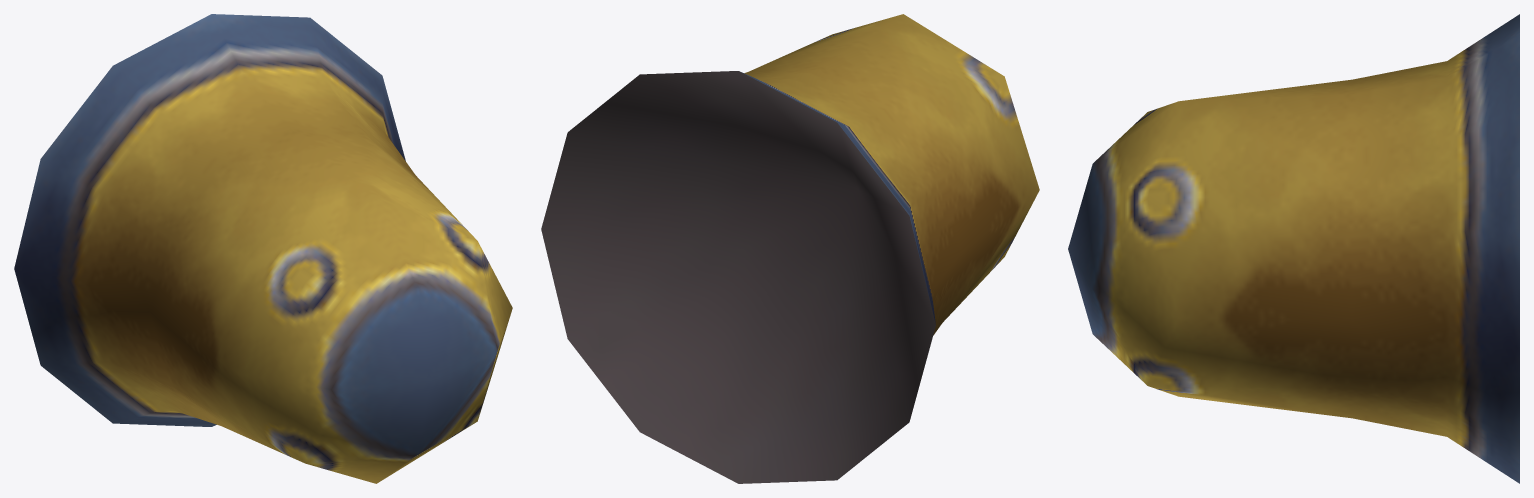
The model's file is part_model_bell.glb.
3 views of the same model, side by side, from view 1: azimuth 30°, elevation 25°; view 2: azimuth 150°, elevation 25°; view 3: azimuth 270°, elevation 25° (orthographic). The views are drawn at different scales.
Visible parts, largest first — view 1: beastbell.part_model_bell-Mesh[0]; view 2: beastbell.part_model_bell-Mesh[0]; view 3: beastbell.part_model_bell-Mesh[0].
Part boxes in pixels (x1,y1,x2,y2): beastbell.part_model_bell-Mesh[0]: (14, 14, 512, 483); beastbell.part_model_bell-Mesh[0]: (541, 14, 1039, 483); beastbell.part_model_bell-Mesh[0]: (1068, 14, 1519, 483).
Bounding box in the file's own units: 0.6472 × 0.6472 × 0.62.
Materials: 1 (1 with a texture image).
